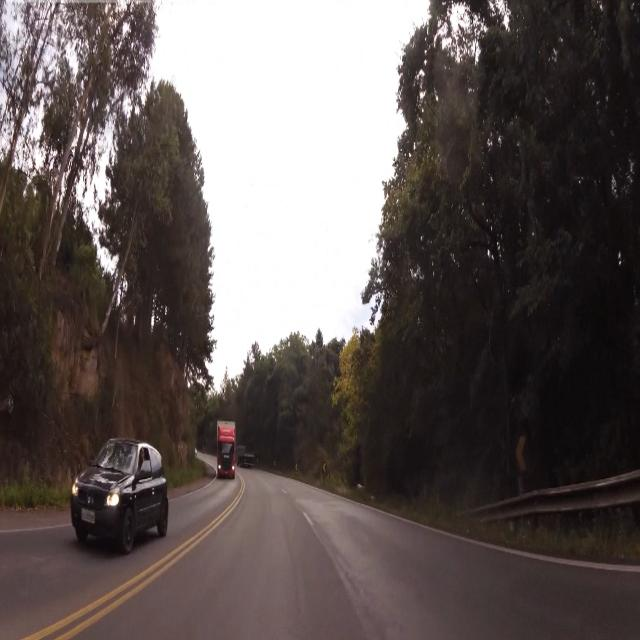Del: (509, 423, 526, 481)
